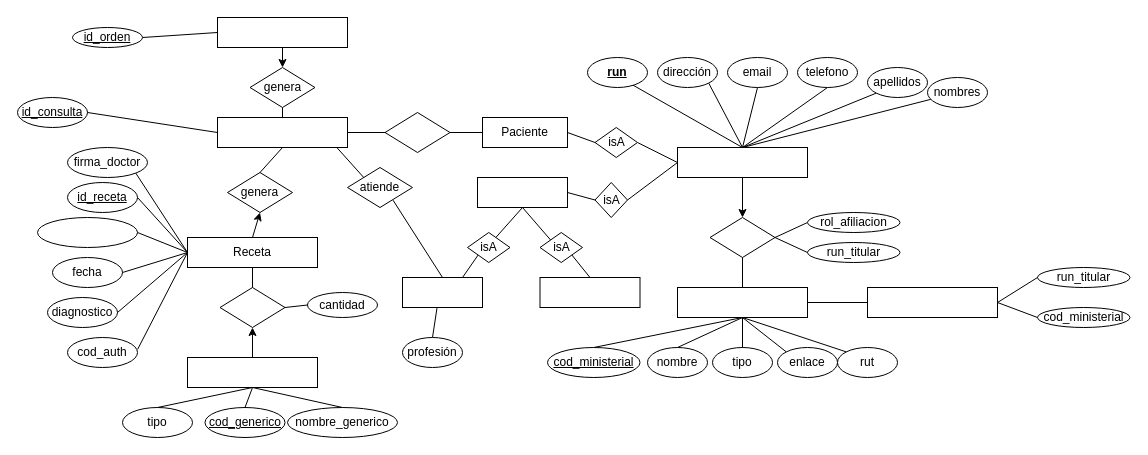
Some shapes in this 1148 by 455 pixel diagram are drawn without their labels. The shapes that lost their labels are listed below. From the top down, each one's centre as x and y in pixels, then its label:
At pixel 282 32: "Orden".
At pixel 282 132: "Consulta".
At pixel 417 132: "recibe".
At pixel 742 162: "Persona".
At pixel 522 192: "Trabajador".
At pixel 87 232: "es_psicotropica".
At pixel 742 237: "afiliacion".
At pixel 252 307: "incluye".
At pixel 442 292: "Medico".
At pixel 589 292: "Administrativo".
At pixel 742 302: "InstitucionSalud".
At pixel 932 302: "PlanIsapre".
At pixel 252 372: "Medicamento".
